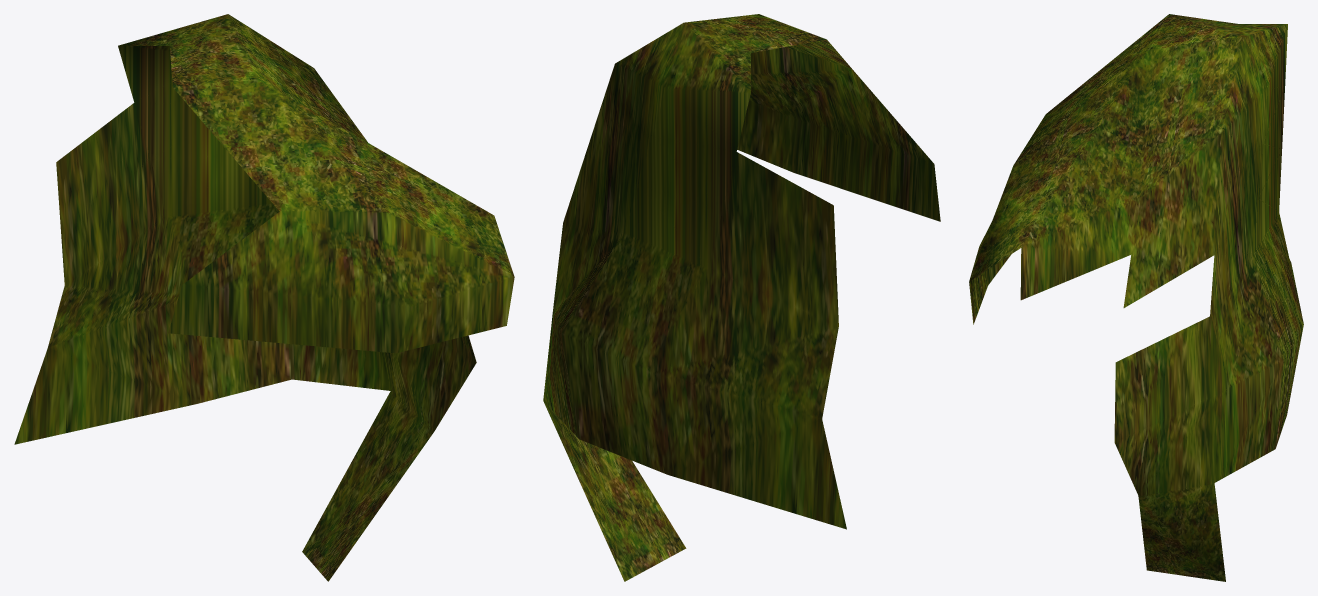
The model's file is TROLLHOLE02_RM_PSURF95.fbx.
The picture shows the model from 3 angles, left to right: view 1: azimuth 30°, elevation 25°; view 2: azimuth 150°, elevation 25°; view 3: azimuth 270°, elevation 25°; orthographic projection. The views are drawn at different scales.
Visible parts, largest first — view 1: TROLLHOLE02_RM_PSURF95; view 2: TROLLHOLE02_RM_PSURF95; view 3: TROLLHOLE02_RM_PSURF95.
Boxes of the visible parts, left/top/right/bottom form: TROLLHOLE02_RM_PSURF95: left=14, top=14, right=514, bottom=581; TROLLHOLE02_RM_PSURF95: left=543, top=14, right=940, bottom=581; TROLLHOLE02_RM_PSURF95: left=969, top=14, right=1303, bottom=581.
Size of the model in its own units: 44214 by 63564 by 37455.
1 material, 1 textured.
